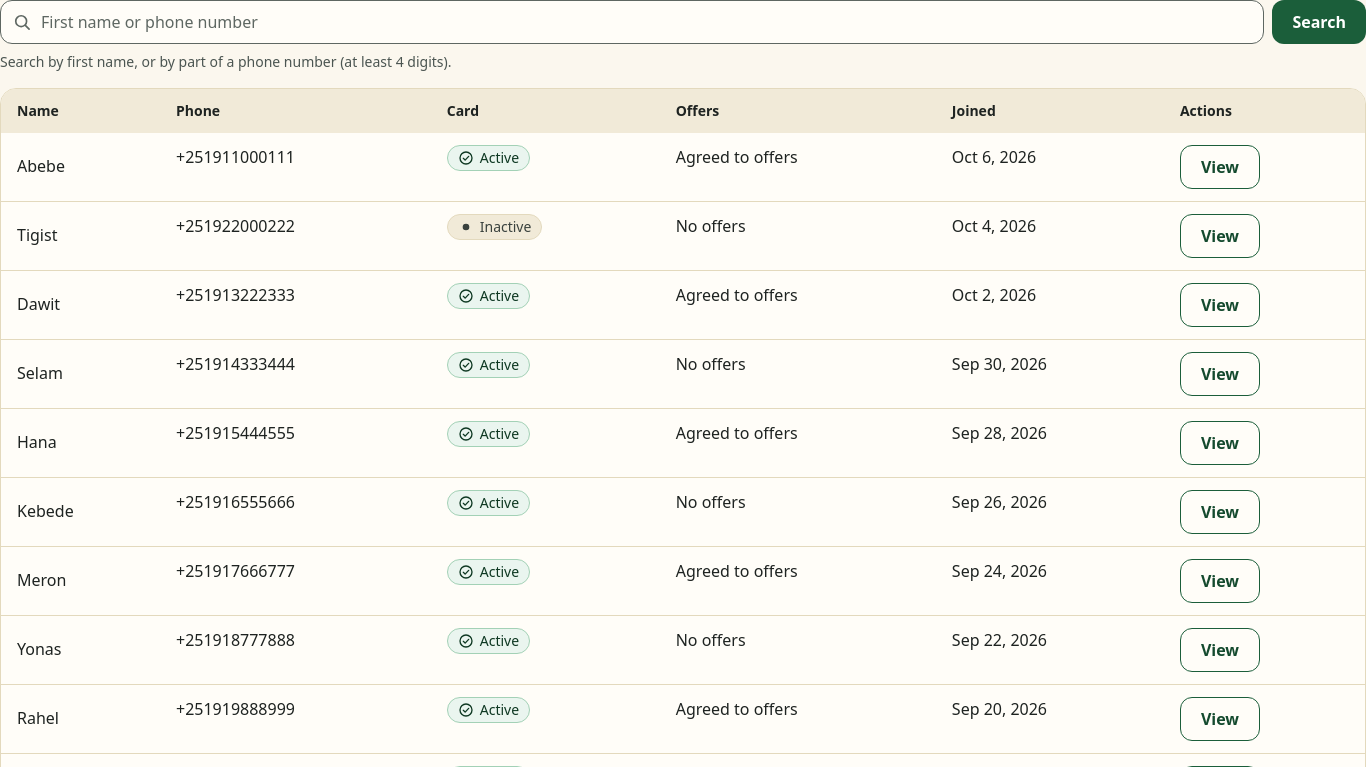
Scenario: customers › shows an empty state when there are no customers and an error with a retry when loading fails
Type "zz" into the search field named "Search customers". click: [632, 22]
box: [0, 0, 1264, 44]
Then press Enter
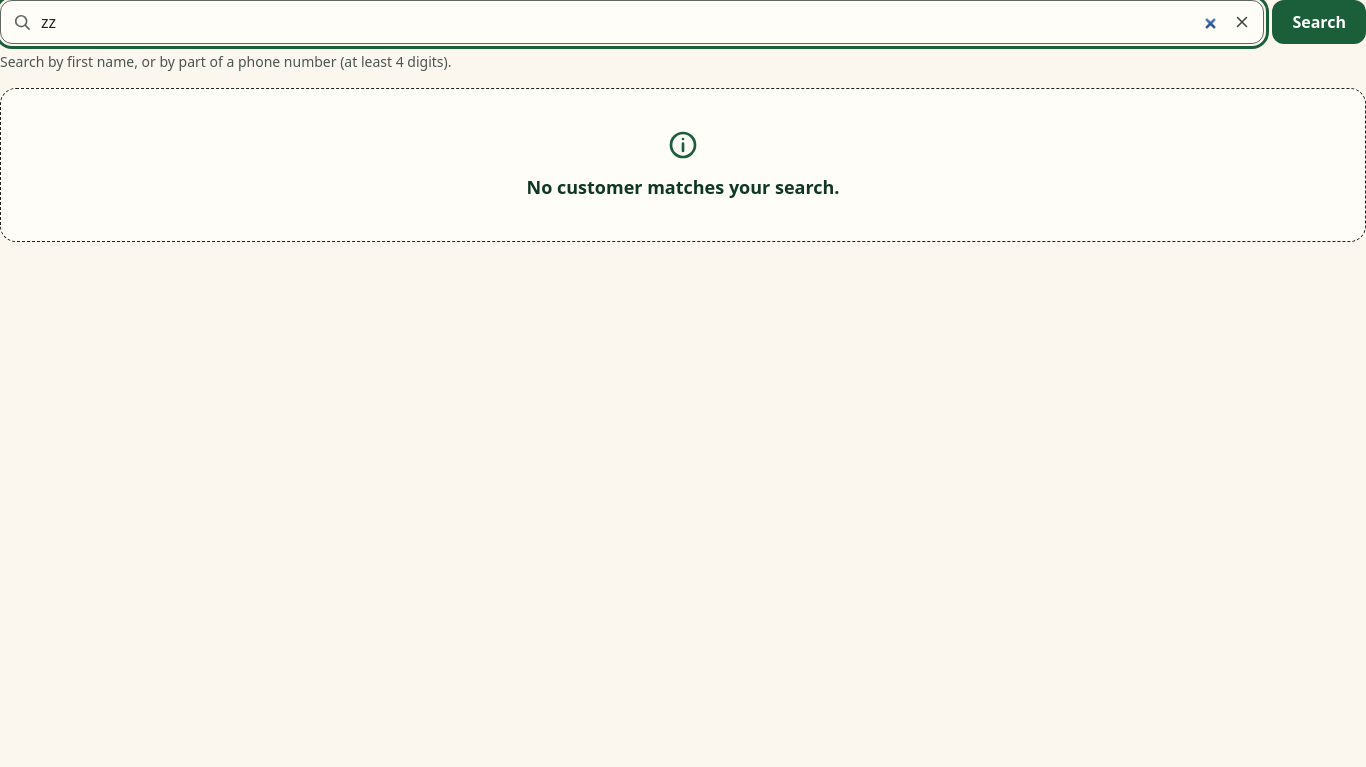
Now the heading "No customer matches your search." is shown, box [527, 173, 839, 201]
